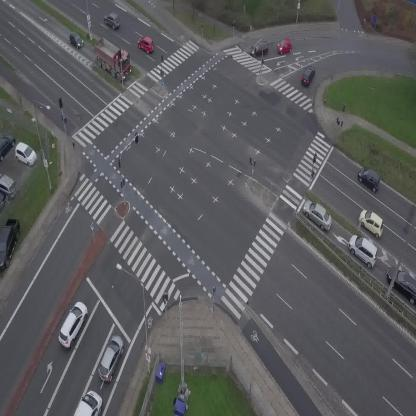car: (54, 299, 92, 350), (94, 333, 128, 384), (343, 231, 385, 270), (298, 197, 338, 233), (354, 206, 389, 239), (355, 165, 384, 192), (65, 30, 86, 52), (135, 34, 157, 55), (103, 11, 121, 30), (300, 65, 316, 86), (275, 38, 293, 55), (249, 42, 268, 56)
lorry: (85, 33, 140, 84), (73, 388, 108, 416)
